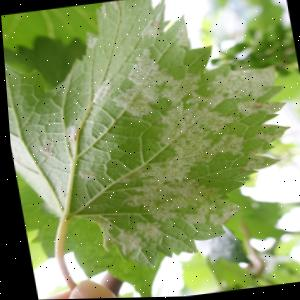Folha: (0, 0, 300, 300)
Fungo: (92, 33, 300, 234), (100, 44, 204, 121), (72, 166, 94, 182), (60, 125, 76, 142)
